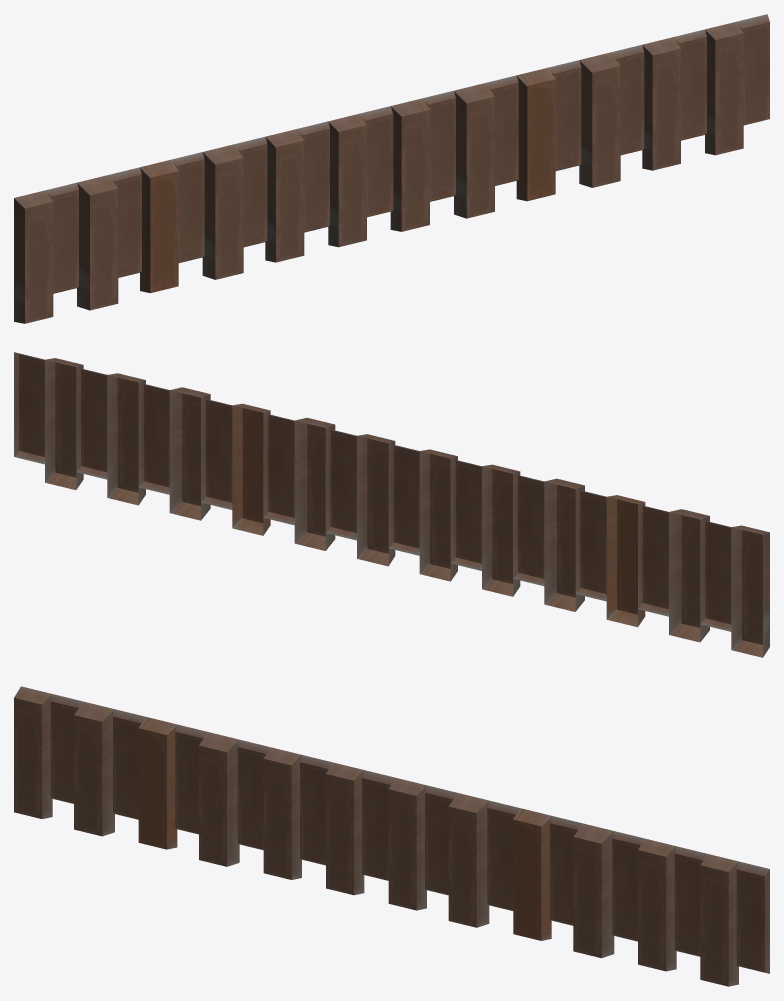
Rendered from Brick_Ornament_Horizontal.glb.
The picture shows the model from 3 angles, top to bottom: view 1: azimuth 30°, elevation 25°; view 2: azimuth 150°, elevation 25°; view 3: azimuth 330°, elevation 25°; orthographic projection.
Visible parts, largest first — view 1: Brick_Ornament_Horizontal; view 2: Brick_Ornament_Horizontal; view 3: Brick_Ornament_Horizontal.
Part boxes in pixels (<box>): Brick_Ornament_Horizontal: <box>14,14,769,323</box>; Brick_Ornament_Horizontal: <box>14,352,769,657</box>; Brick_Ornament_Horizontal: <box>14,686,769,986</box>.
Bounding box in the file's own units: 2 × 0.314 × 0.0515.
Materials: 1 (1 with a texture image).
